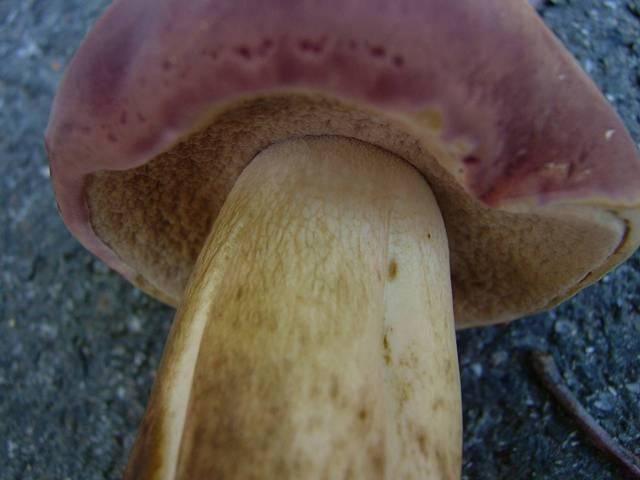poisonous_mushroom: (42, 0, 639, 479)
